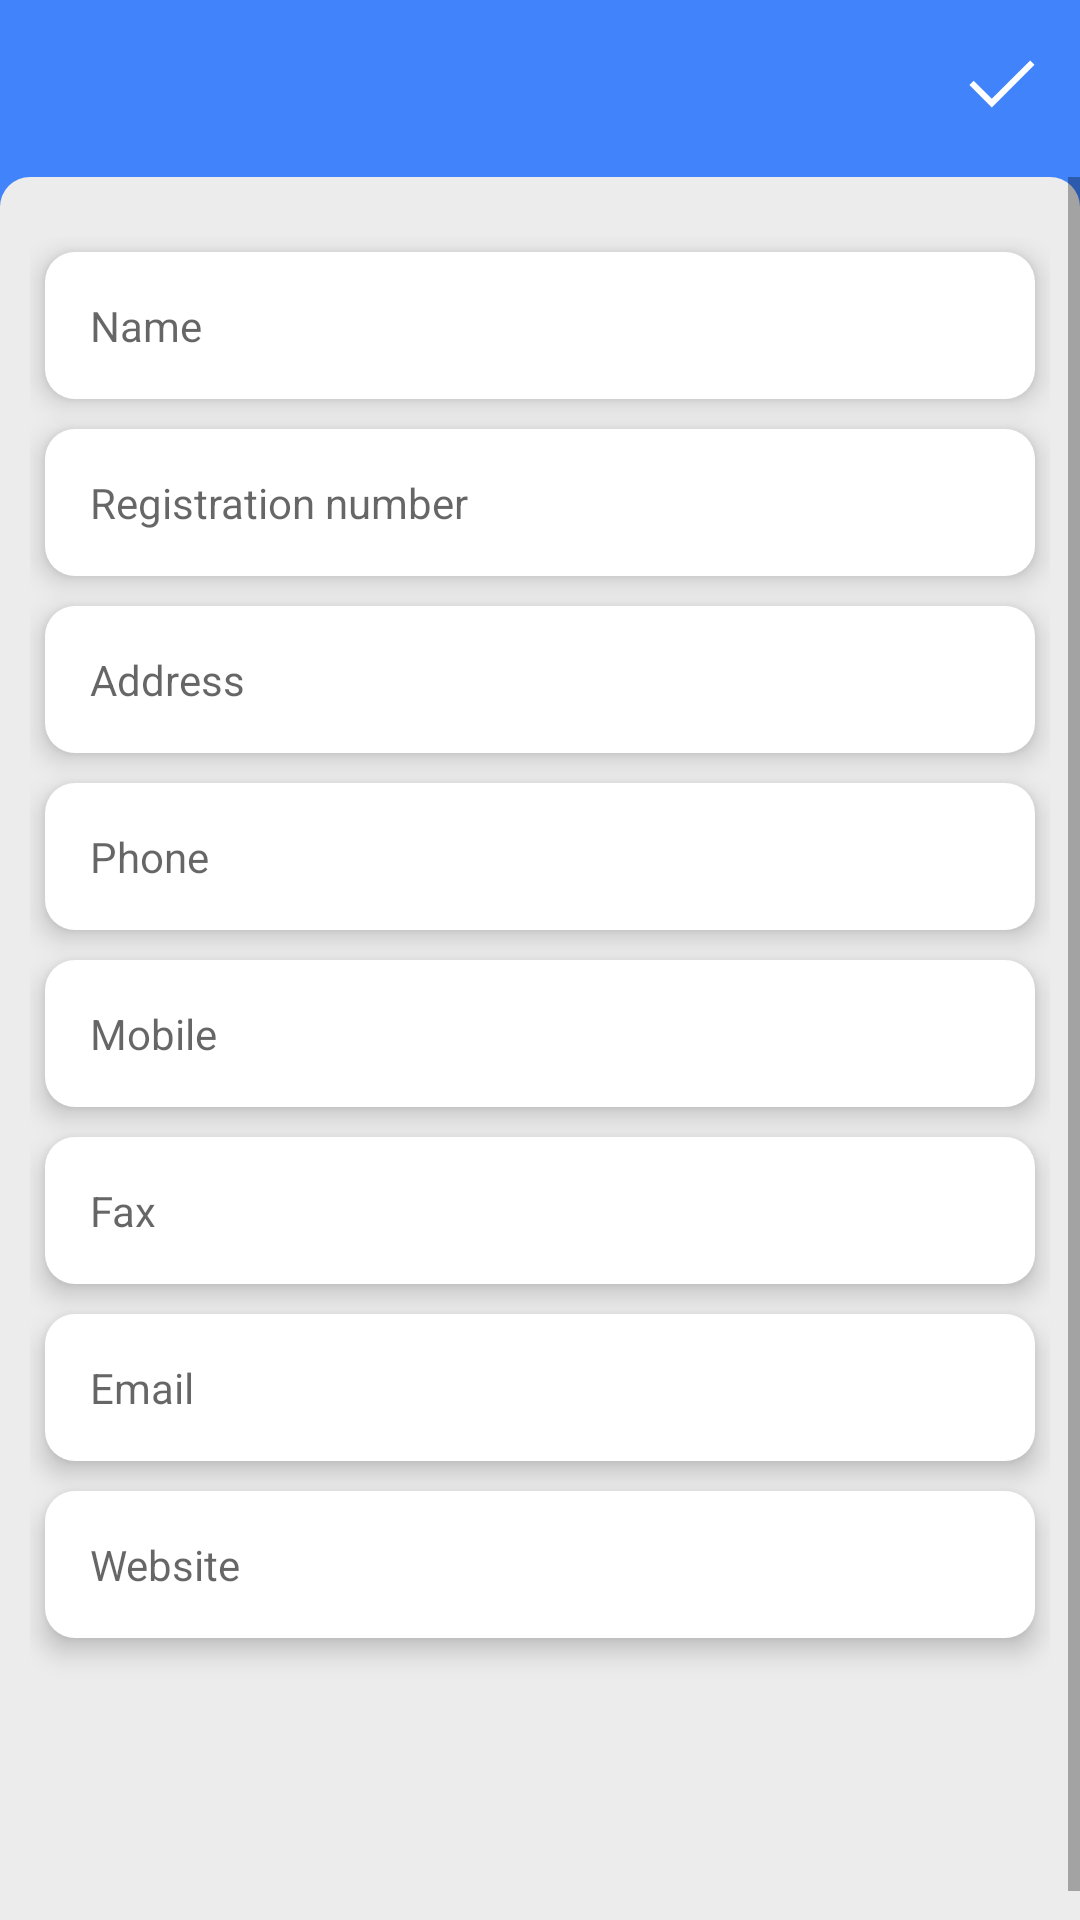

Locate icon controls on the screen. Image size 1080x1920, boxes as (x1, y1, x2, y2).
done: (969, 60, 1035, 108)
